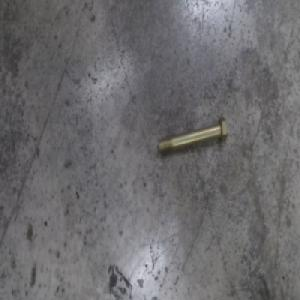Bolt: (157, 115, 227, 157)
